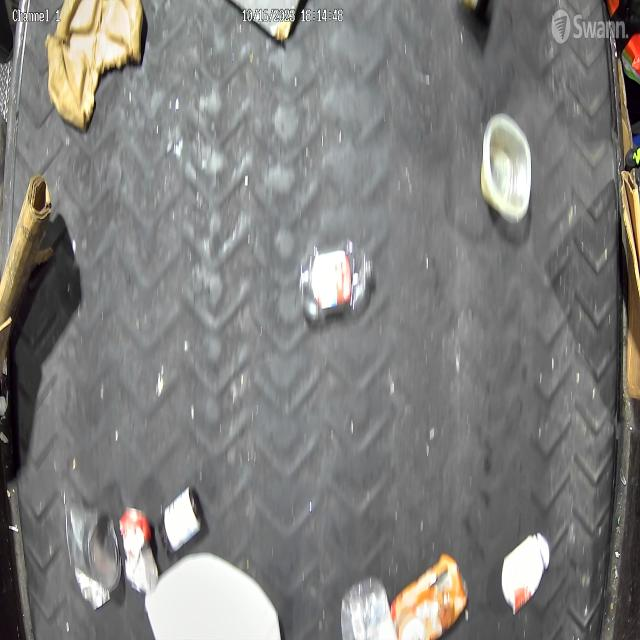can: (392, 552, 469, 640), (65, 499, 122, 592), (118, 507, 159, 595)
milk_jug: (144, 552, 282, 640)
plastic_bottle: (298, 240, 374, 322)
